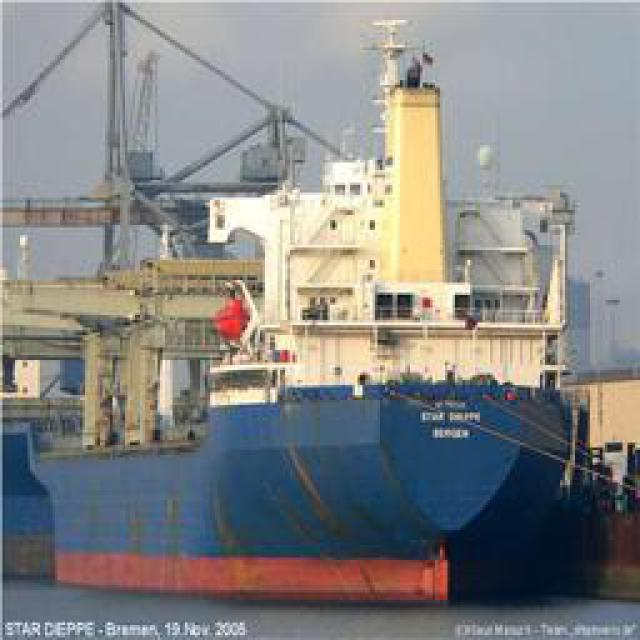Ship: (28, 63, 605, 605)
